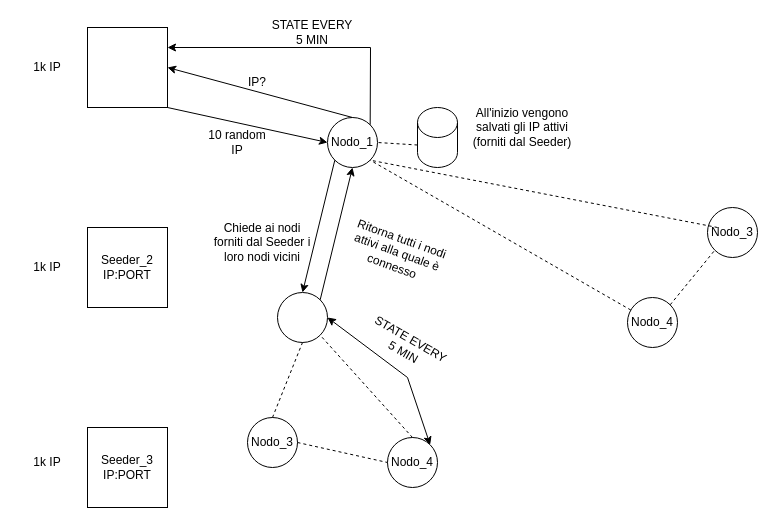
Image size: 775x525. Some labels were removed from this diagram. Here are the shapes that lost their labels. From the top down, the box of each, then its label:
(86, 26, 168, 108): Seeder_1 IP:PORT
(416, 106, 458, 168): Local DB
(276, 292, 328, 342): Nodo_2
